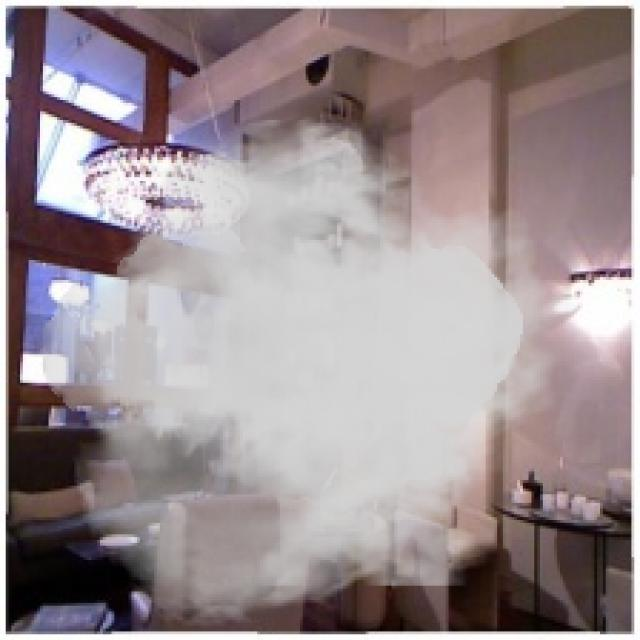smoke: (40, 111, 577, 632)
